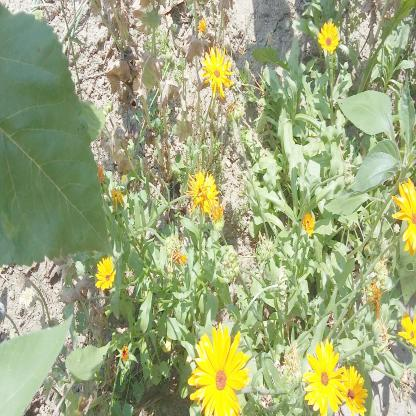marigold: (187, 320, 251, 416), (305, 339, 348, 415), (391, 173, 416, 255), (202, 43, 235, 98), (341, 363, 367, 415), (192, 164, 218, 212), (95, 254, 117, 292), (318, 19, 341, 55), (397, 310, 416, 350), (299, 208, 315, 238)
